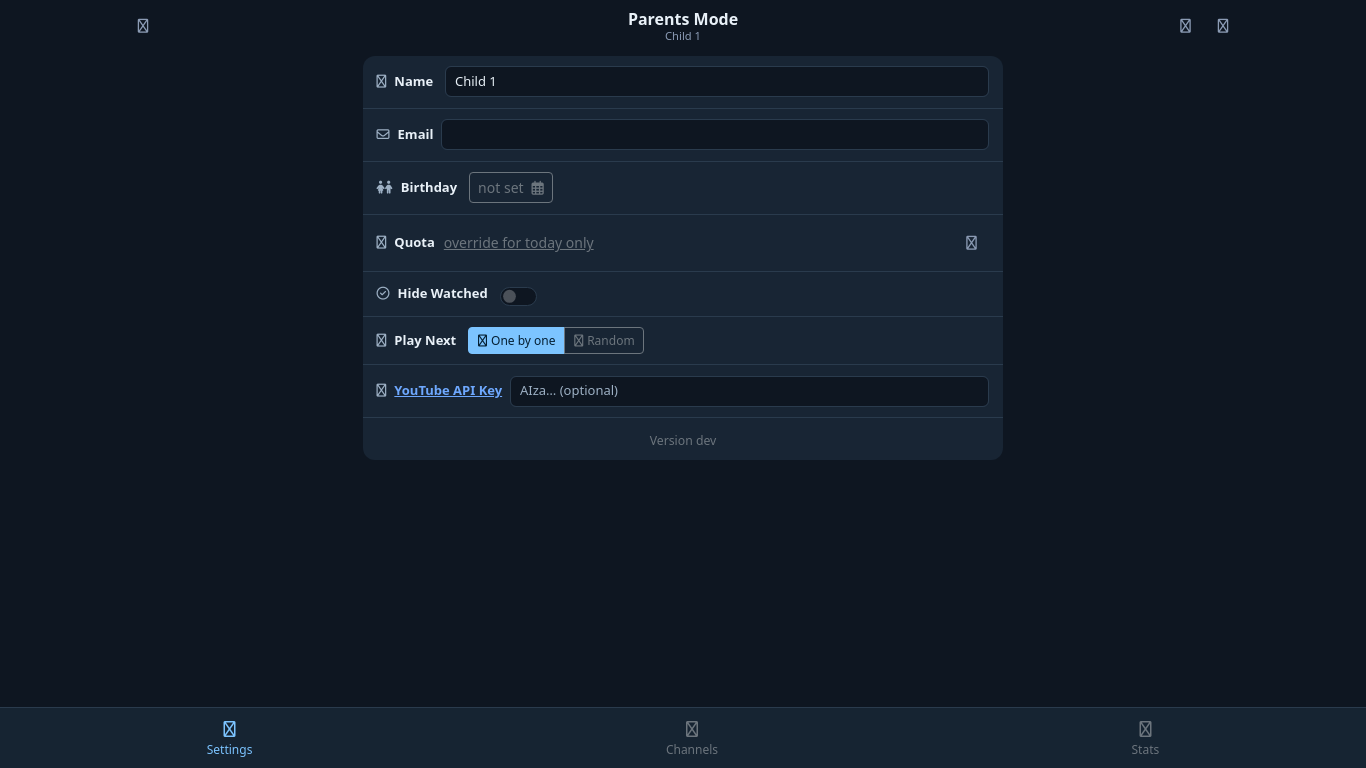
the child email field › refuses the address the parent is signed in with
Type "Parent@example.com" into the field labelled "Email" at (715, 135), box [441,119,989,150]
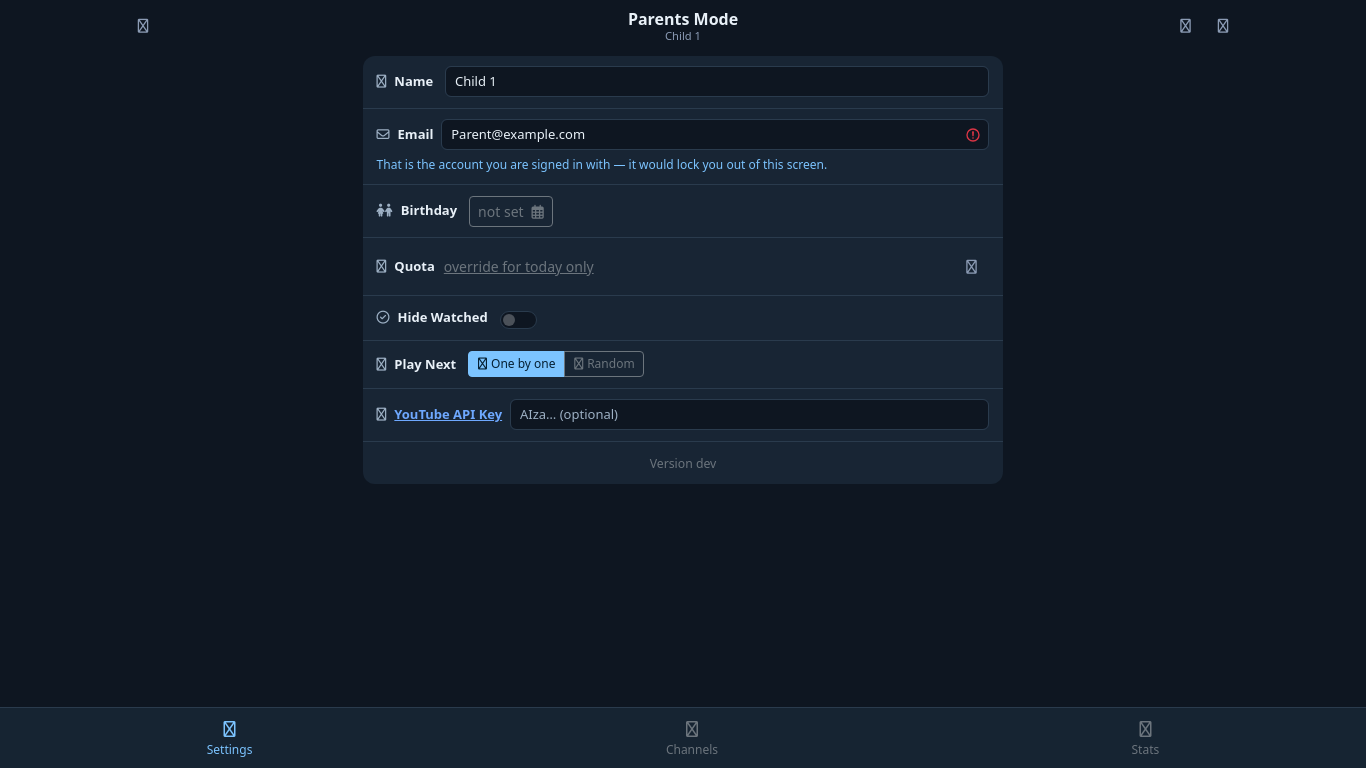
Expected: the text "would lock you out" is shown, [377,156,827,173]
